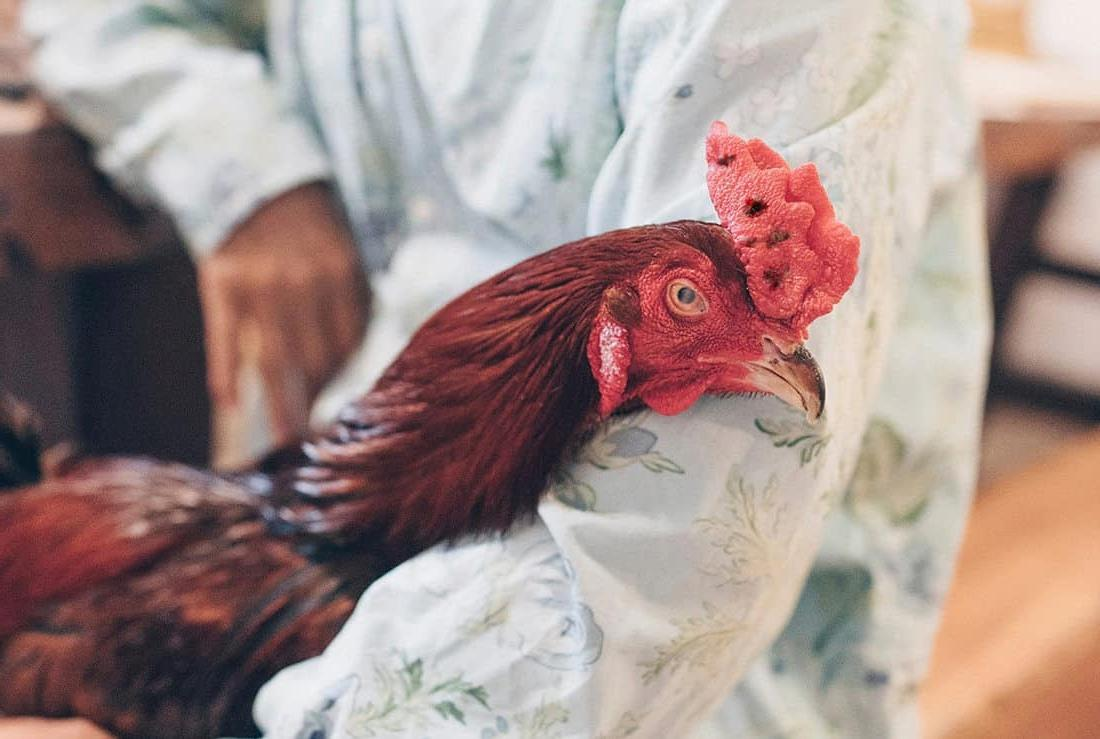AbNormal: (702, 115, 860, 331)
